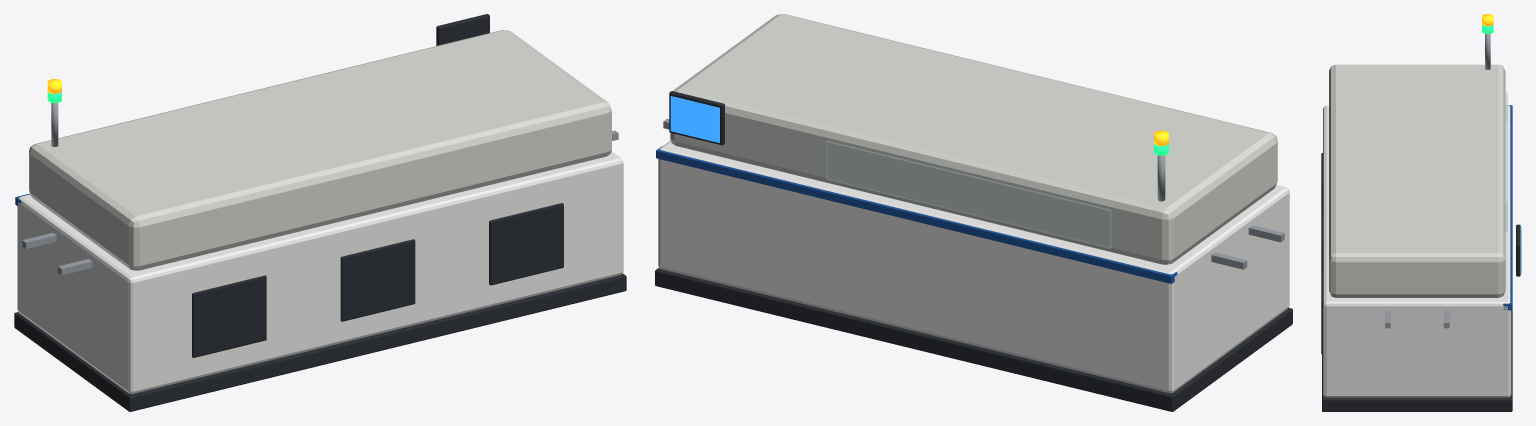
File: smt_module.glb
The picture shows the model from 3 angles, left to right: view 1: azimuth 30°, elevation 25°; view 2: azimuth 150°, elevation 25°; view 3: azimuth 270°, elevation 25°; orthographic projection. The views are drawn at different scales.
Parts seen in each view (by area): view 1: smt_module; view 2: smt_module; view 3: smt_module.
Part boxes in pixels (bbox=[...]): smt_module: bbox=[14, 14, 626, 411]; smt_module: bbox=[655, 14, 1292, 411]; smt_module: bbox=[1321, 14, 1521, 411].
Bounding box in the file's own units: 4.5 × 1.93 × 1.7.
